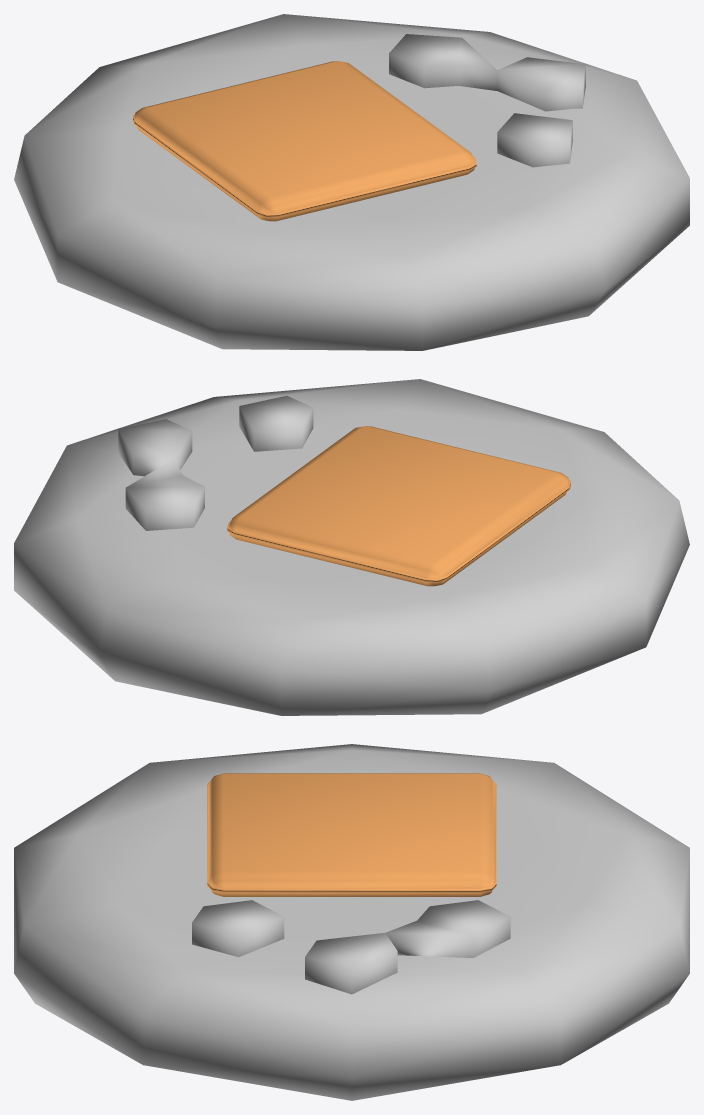
File: Low Poly Tiger Tamagotchi Example.fbx
3 views of the same model, one above another, from view 1: azimuth 30°, elevation 25°; view 2: azimuth 150°, elevation 25°; view 3: azimuth 270°, elevation 25° (orthographic). The views are drawn at different scales.
Visible parts, largest first — view 1: Low Poly Tiger Tamagotchi Example; view 2: Low Poly Tiger Tamagotchi Example; view 3: Low Poly Tiger Tamagotchi Example.
Part boxes in pixels (bbox=[...]): Low Poly Tiger Tamagotchi Example: bbox=[14, 14, 689, 350]; Low Poly Tiger Tamagotchi Example: bbox=[14, 379, 689, 715]; Low Poly Tiger Tamagotchi Example: bbox=[14, 744, 689, 1100].
Bounding box in the file's own units: 440 × 77.39 × 418.
